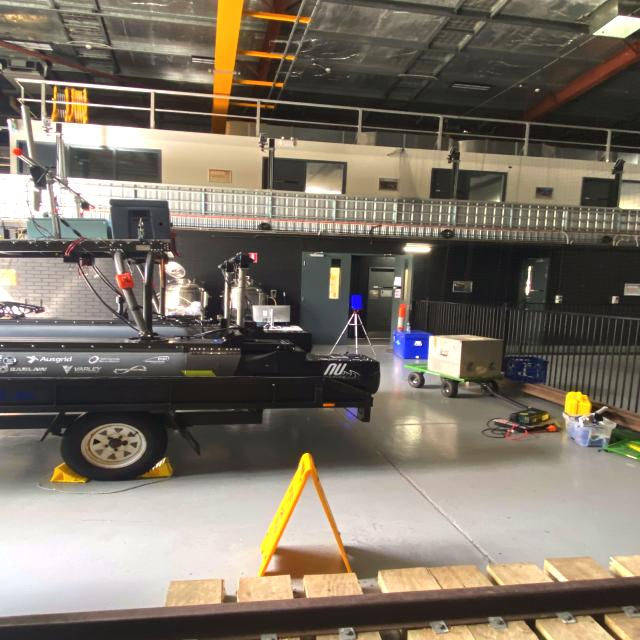matrix: (350, 294, 363, 310)
